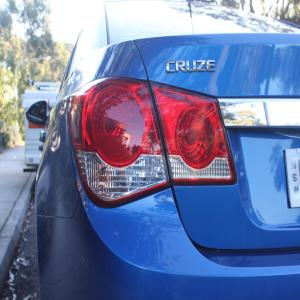Vehicle-registration-plate: (286, 150, 300, 209)
